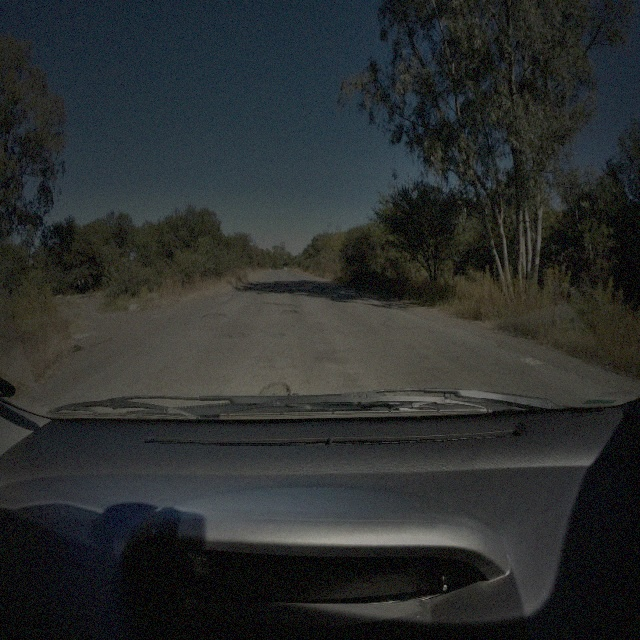pothole: (257, 379, 290, 394), (253, 298, 288, 308), (266, 328, 284, 339), (202, 311, 226, 318), (281, 306, 297, 314)
